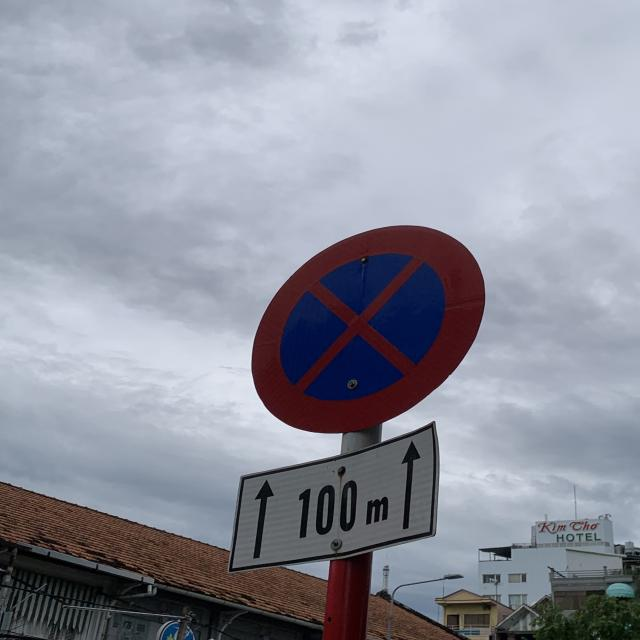Cam_Dung_Va_Dau_Xe: (253, 223, 485, 435)
